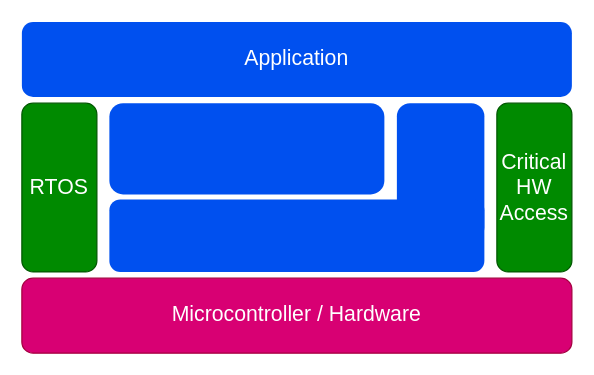
Some shapes in this 594 by 375 pixel diagram are drawn without their labels. The shapes that lost their labels are listed below. From the top down, each one's box as (x1, y1, x2, y2) in pixels, then its label:
(109, 102, 384, 194): Components
(109, 199, 484, 271): Drivers
